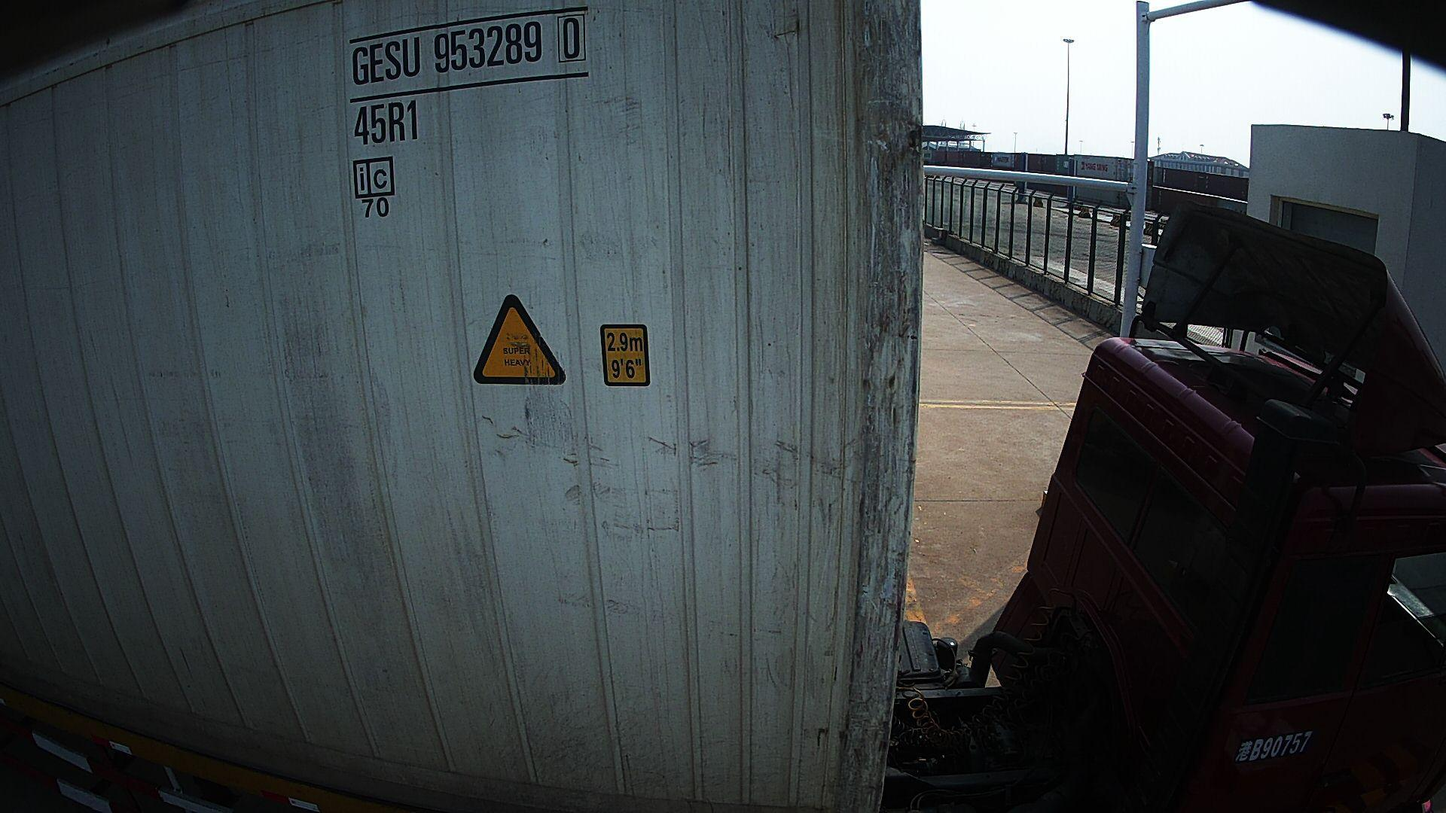container-numbers: (348, 5, 590, 91), (350, 98, 423, 148)
